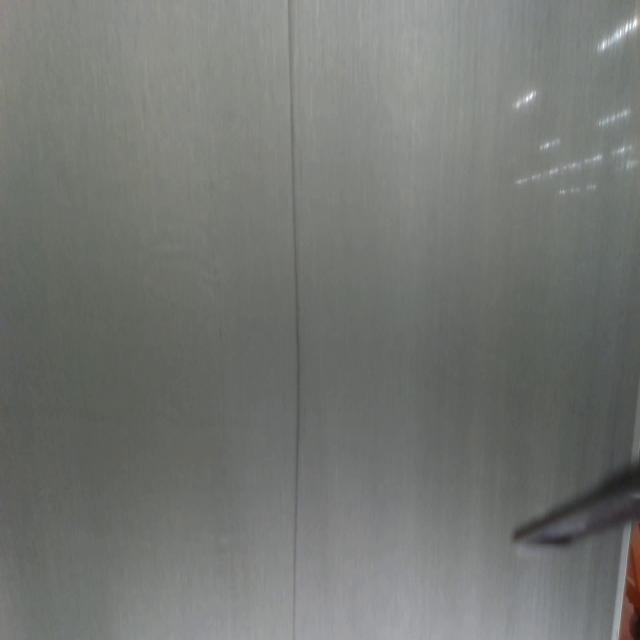crease: (286, 0, 303, 640)
